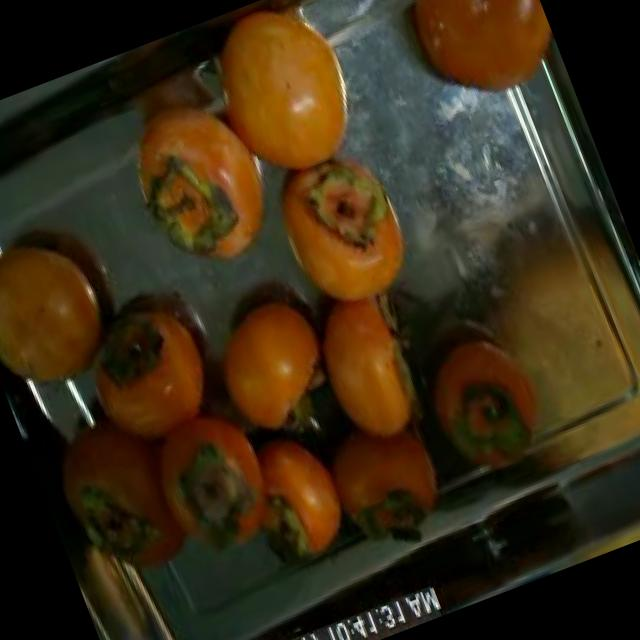Fruit: (179, 0, 395, 214), (244, 120, 444, 342), (175, 252, 368, 470), (0, 191, 158, 426), (220, 400, 367, 592), (366, 0, 572, 136)
